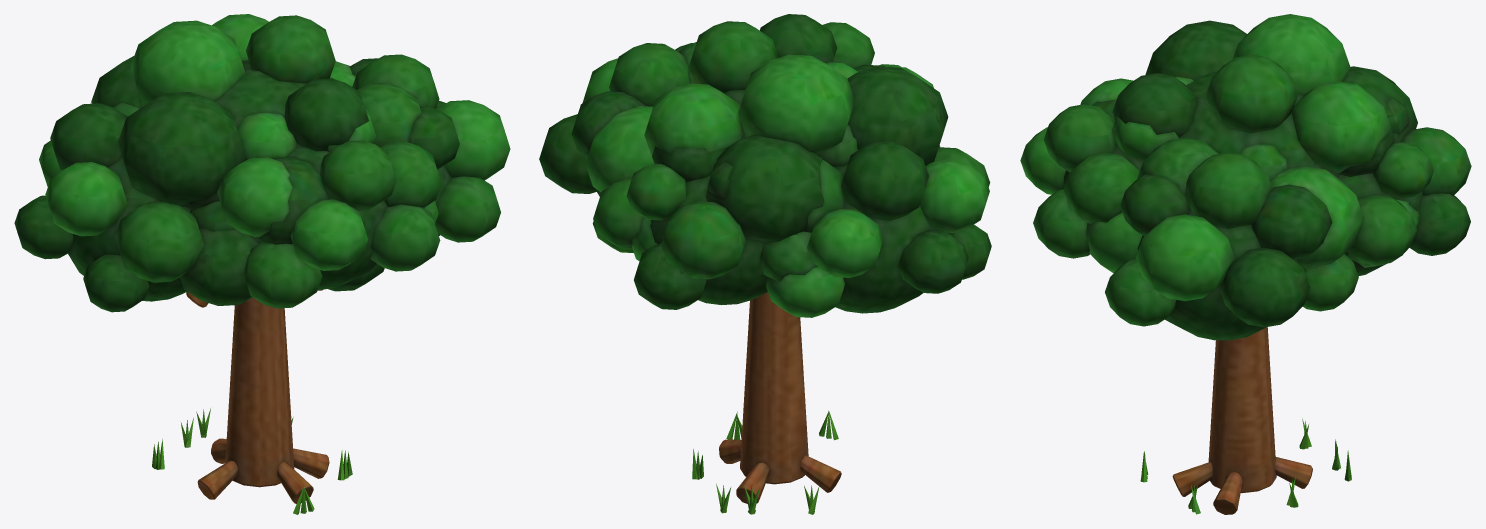
File: jackfruit_tree.glb
3 renders of one model, left to right at view 1: azimuth 30°, elevation 25°; view 2: azimuth 150°, elevation 25°; view 3: azimuth 270°, elevation 25°, orthographic.
Parts seen in each view (by area): view 1: crown, jackfruit_tree; view 2: crown, jackfruit_tree; view 3: crown, jackfruit_tree.
Part boxes in pixels (x1,y1,x2,y2): crown: (14,14,510,312); jackfruit_tree: (152,289,352,514); crown: (539,14,991,317); jackfruit_tree: (692,292,841,514); crown: (1020,14,1471,340); jackfruit_tree: (1140,327,1351,514).
Bounding box in the file's own units: 1.45 × 1.44 × 1.31.
1 material, 1 textured.
